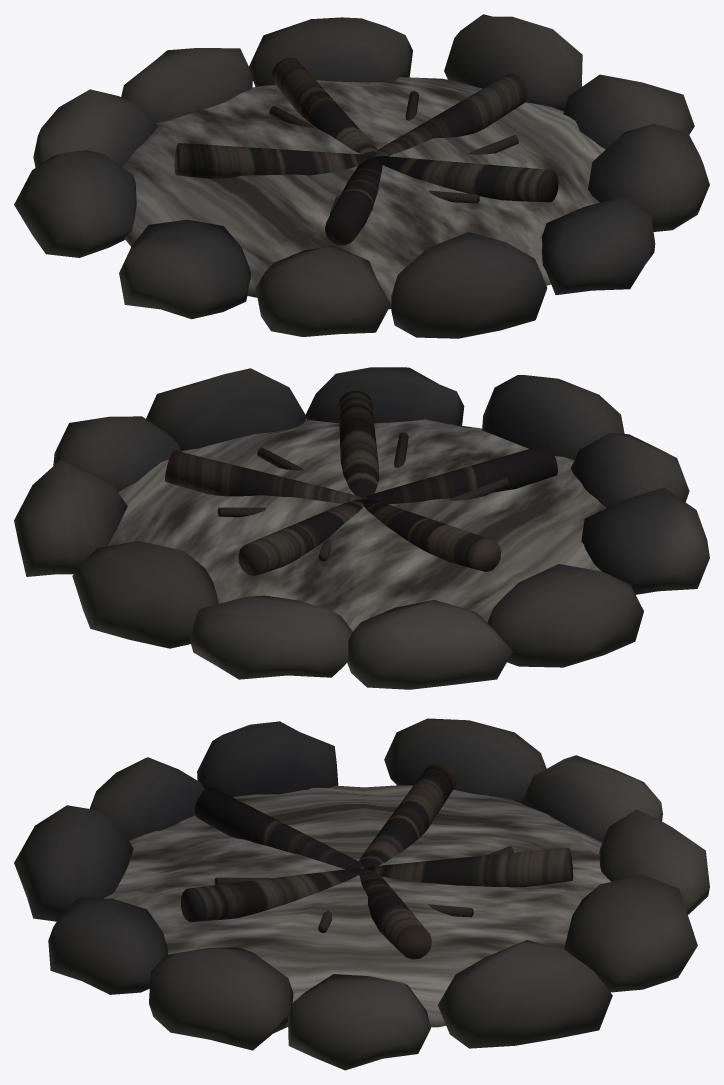
Rendered from campfire_burnt_out.glb.
3 renders of one model, top to bottom at view 1: azimuth 30°, elevation 25°; view 2: azimuth 150°, elevation 25°; view 3: azimuth 270°, elevation 25°, orthographic. The views are drawn at different scales.
Parts seen in each view (by area): view 1: Campfire_BurntOut; view 2: Campfire_BurntOut; view 3: Campfire_BurntOut.
Part boxes in pixels (x1,y1,x2,y2): Campfire_BurntOut: [14, 14, 709, 338]; Campfire_BurntOut: [14, 367, 709, 689]; Campfire_BurntOut: [14, 718, 709, 1070].
Size of what is drawn, in the model's own units: 1.15 by 0.1463 by 1.11.
Materials: 1 (1 with a texture image).
